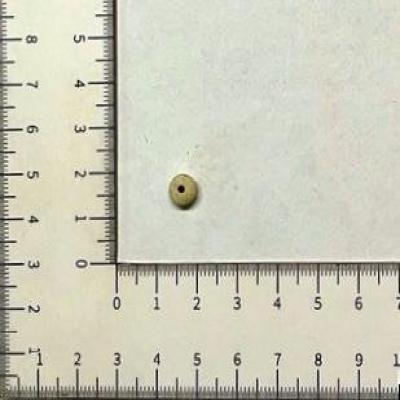archeology: (167, 173, 201, 211)
